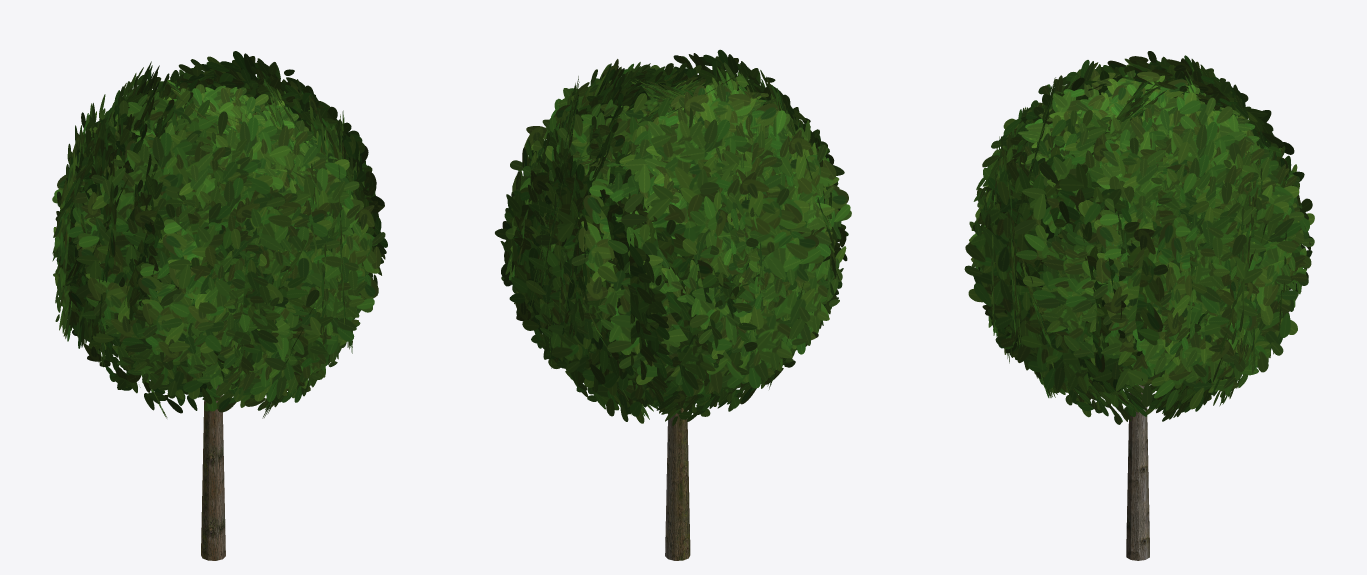
Rendered from prop_tree.gltf.
3 views of the same model, side by side, from view 1: azimuth 30°, elevation 25°; view 2: azimuth 150°, elevation 25°; view 3: azimuth 270°, elevation 25° (orthographic).
Visible parts, largest first — view 1: prop_tree; view 2: prop_tree; view 3: prop_tree.
Part boxes in pixels (box(x1,y1,x2,y2)): prop_tree: box(52, 51, 387, 560); prop_tree: box(495, 49, 851, 560); prop_tree: box(964, 51, 1314, 560).
Size of what is drawn, in the model's own units: 5.35 by 7.24 by 5.52.
2 materials, 2 textured.
